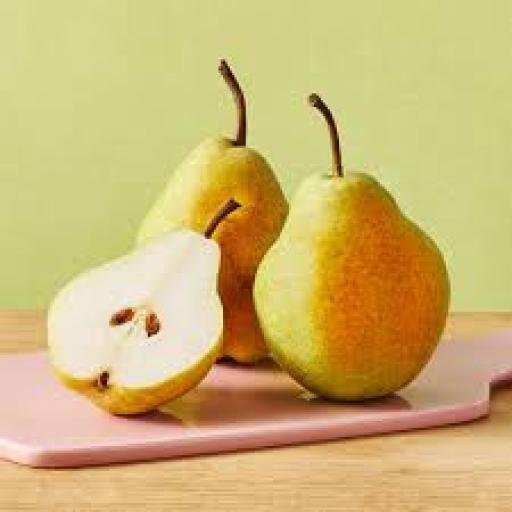Pear: (255, 96, 450, 400), (137, 62, 286, 364), (48, 201, 238, 414)
